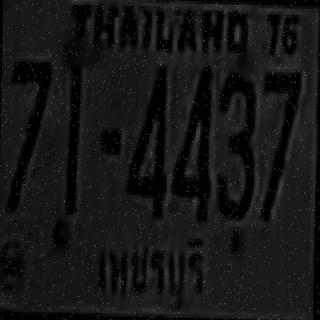N03: (214, 70, 254, 216)
N04: (125, 64, 167, 216), (171, 64, 211, 217)
N07: (8, 60, 50, 204), (260, 69, 300, 216), (261, 69, 300, 173), (9, 58, 50, 154), (261, 69, 300, 161)
P44: (94, 234, 211, 312)
